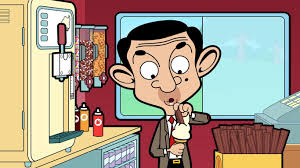mrbean: (107, 20, 222, 168)
